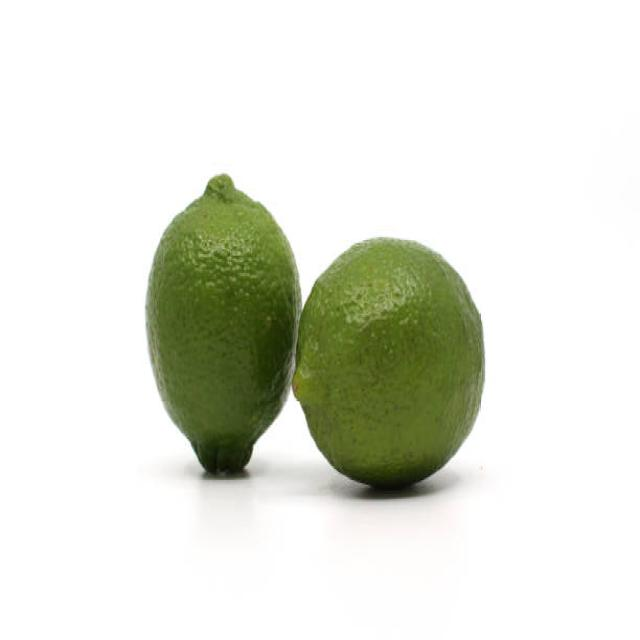Unripe: (295, 233, 487, 486), (145, 172, 302, 474)
